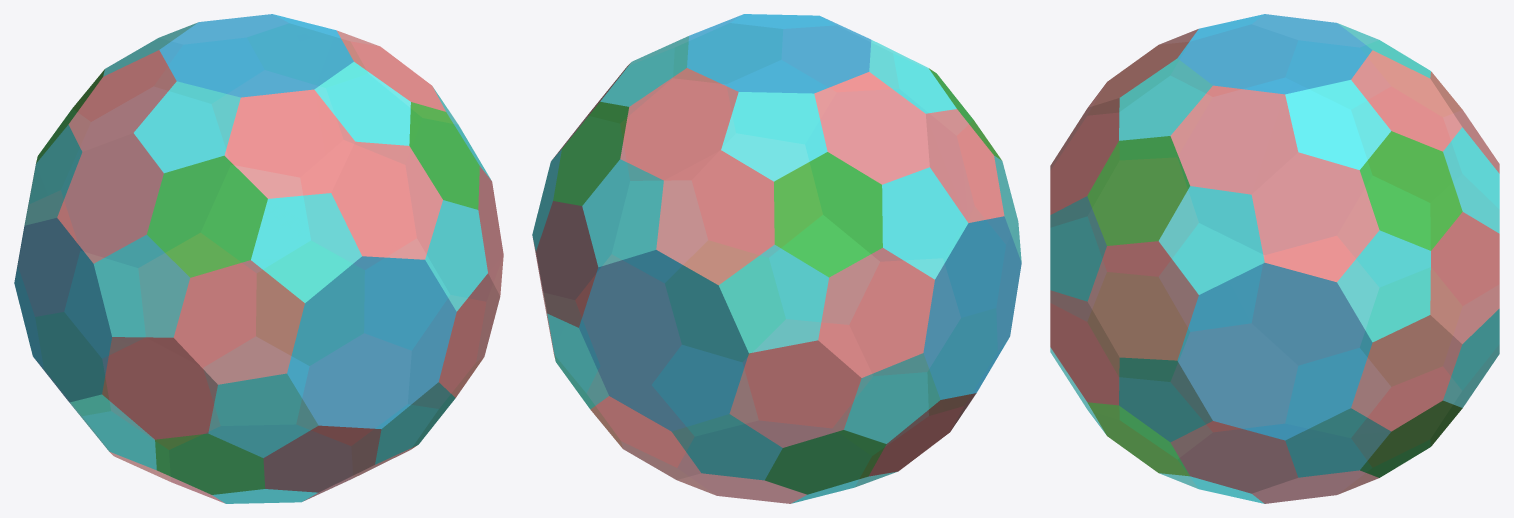
File: TruncatedSnubCube.obj
3 views of the same model, side by side, from view 1: azimuth 30°, elevation 25°; view 2: azimuth 150°, elevation 25°; view 3: azimuth 270°, elevation 25° (orthographic).
Bounding box in the file's own units: 1.86 × 1.86 × 1.85.
